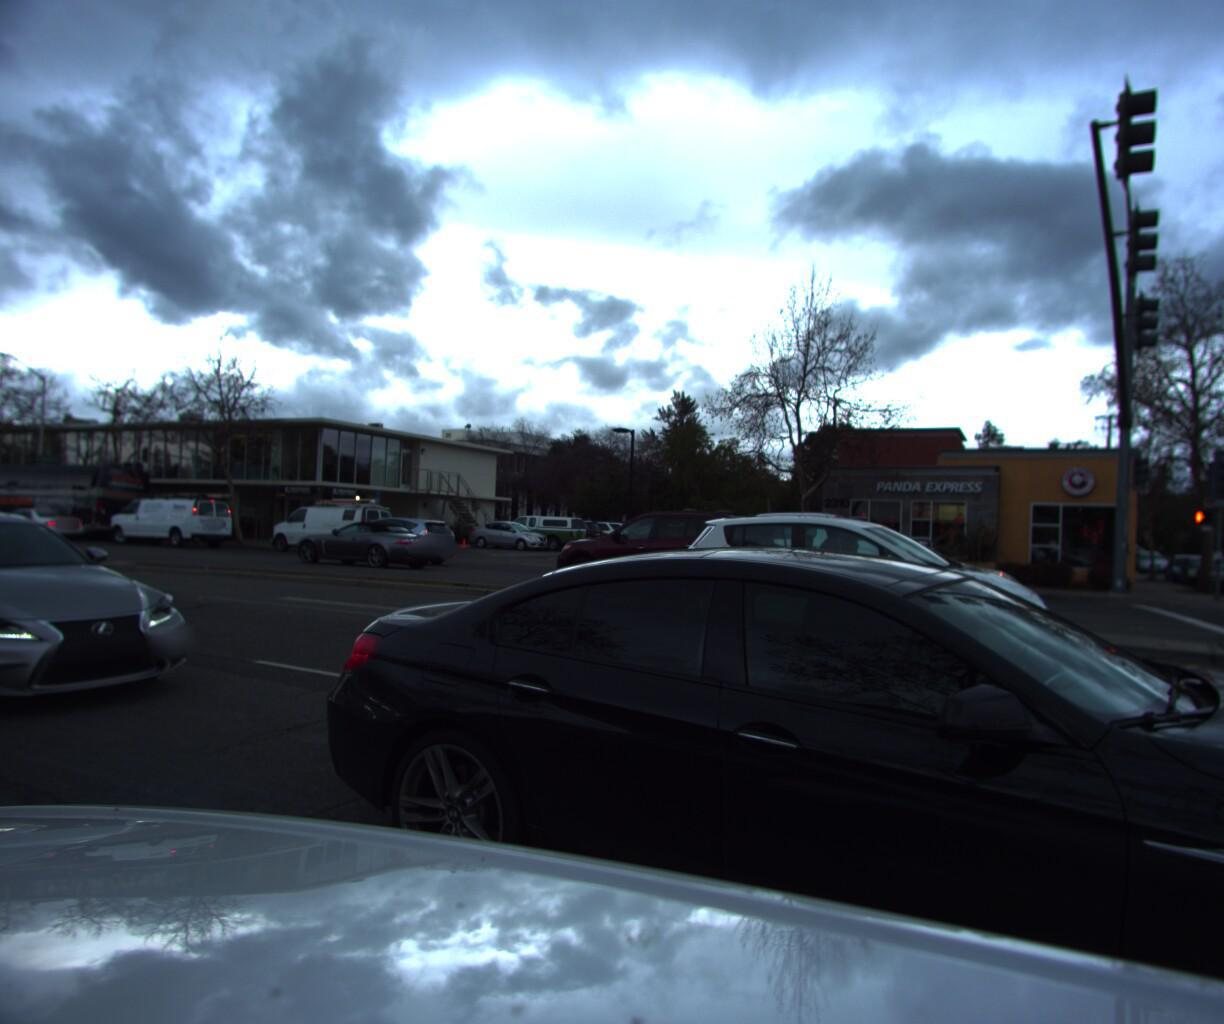bus: (0, 468, 159, 549), (98, 490, 242, 555)
car: (270, 508, 1224, 1024), (659, 504, 1087, 680), (0, 505, 231, 760), (655, 506, 945, 610), (549, 503, 789, 606), (264, 494, 406, 559), (288, 521, 453, 576), (324, 515, 462, 567), (0, 509, 95, 552), (1170, 553, 1224, 588), (1155, 553, 1211, 583), (1194, 550, 1224, 596), (0, 497, 21, 551), (1127, 549, 1169, 571), (1215, 549, 1224, 604), (1210, 544, 1224, 567)
